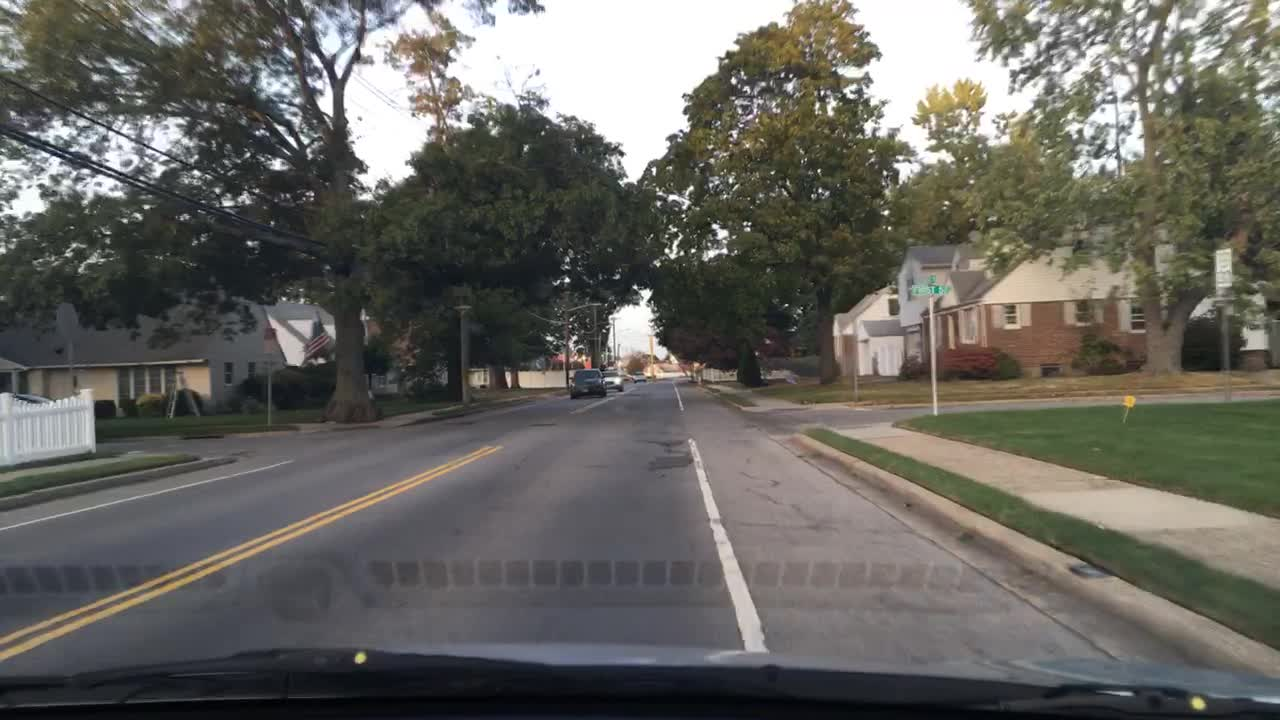car: (569, 367, 607, 400), (601, 370, 625, 392), (629, 370, 647, 383)
traffic sign: (913, 284, 951, 295), (918, 274, 935, 286)
